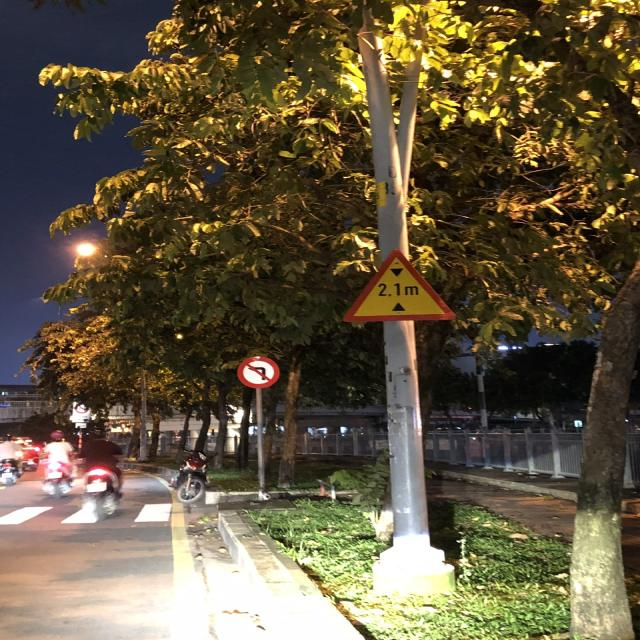Bien bao cam re trai: (233, 352, 286, 392)
Bien bao chieu cao tinh khong thuc te: (336, 246, 461, 332)
